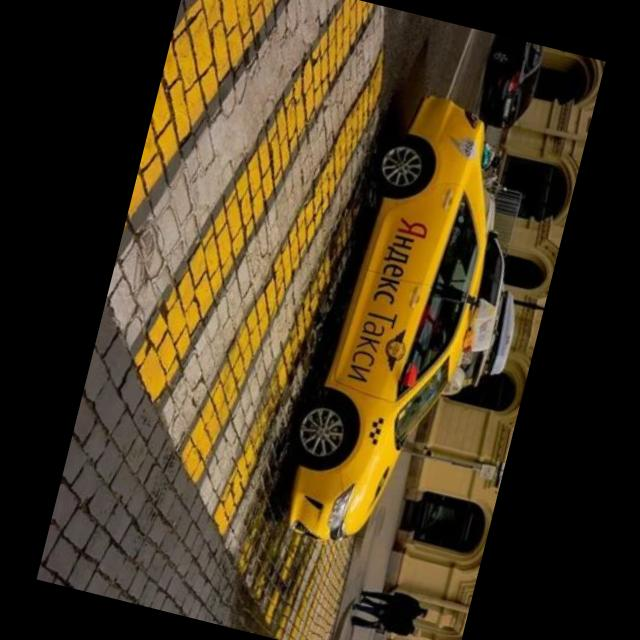taxi: (268, 80, 551, 571)
